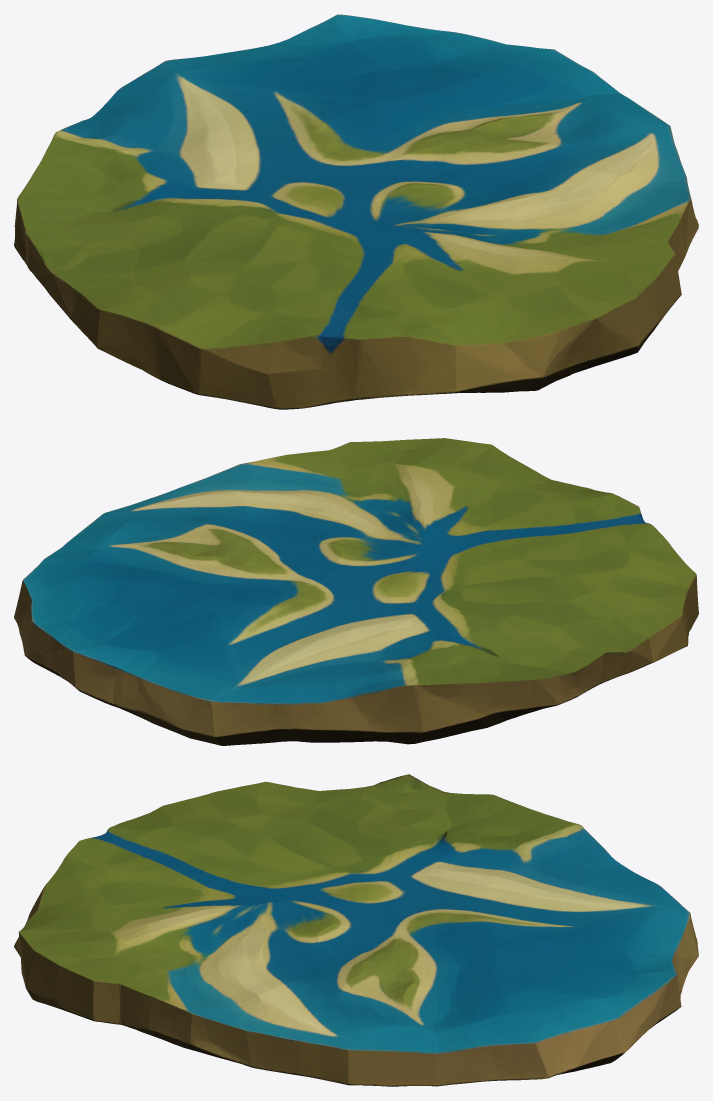
3 views of the same model, one above another, from view 1: azimuth 30°, elevation 25°; view 2: azimuth 150°, elevation 25°; view 3: azimuth 270°, elevation 25° (orthographic). The views are drawn at different scales.
Visible parts, largest first — view 1: world; view 2: world; view 3: world.
Boxes of the visible parts, <box> form: world: <box>14,14,698,409</box>; world: <box>14,438,698,745</box>; world: <box>14,774,698,1086</box>.
Size of the model in its own units: 28.35 by 3.23 by 30.
Materials: 1 (1 with a texture image).
